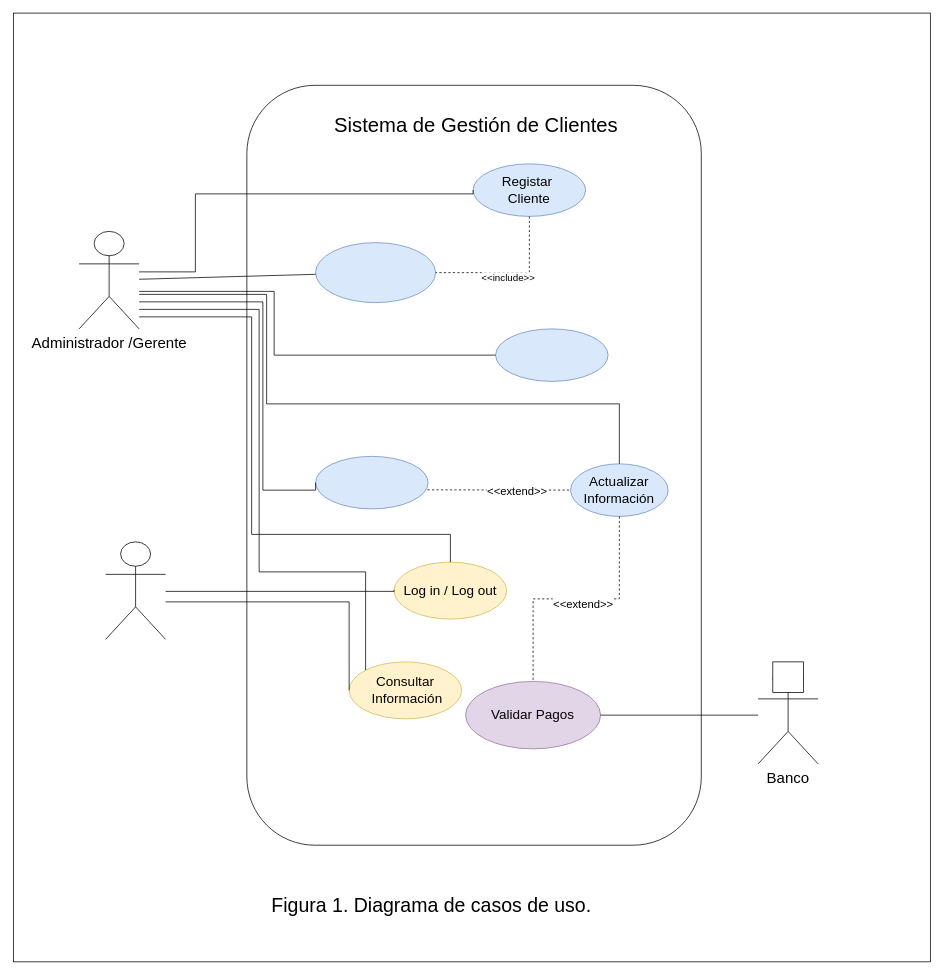
This 944x975 diagram has some shape labels left out. The shapes that lost their labels are listed below. From the top down, each one's centre as x and y in pixels, then its label:
At point 375,272: "Validar Datos Personales".
At point 551,354: "Generar Reportes".
At point 371,482: "Validar Cliente Estatus".
At point 135,590: "Cliente".
